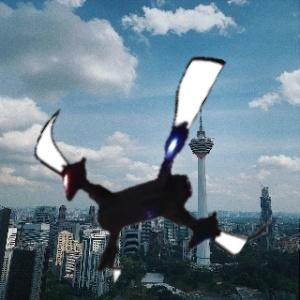drone: (27, 42, 286, 300)
